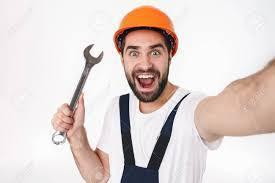helmet: (112, 5, 179, 49)
